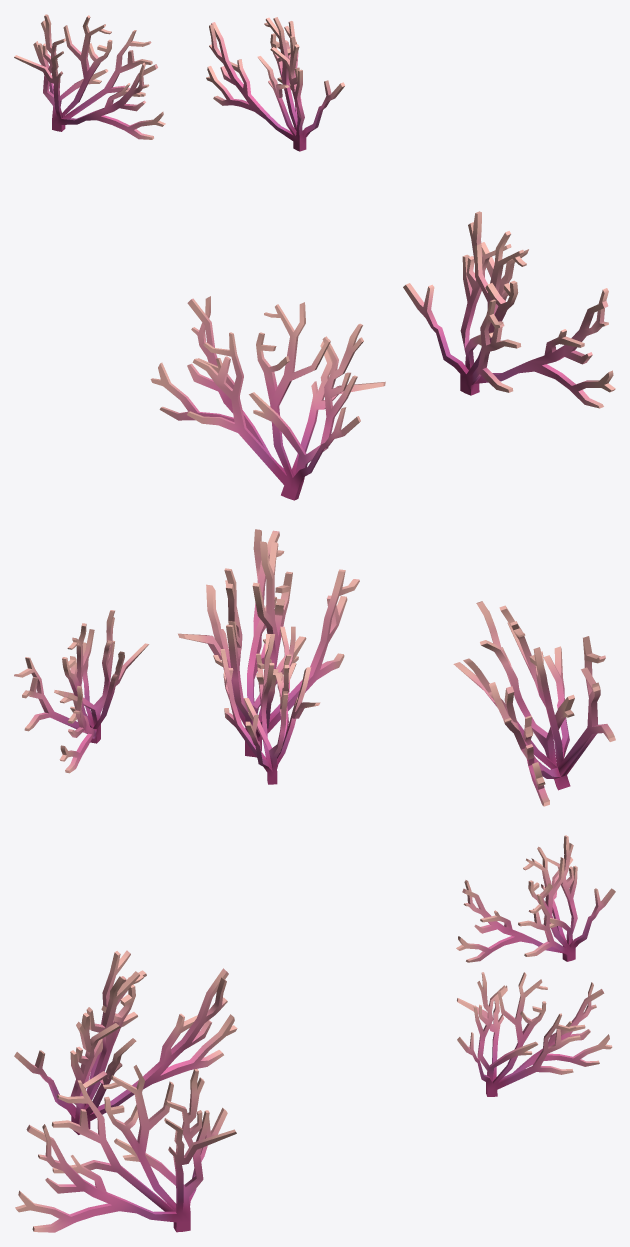
The model's file is stageObject_8.fbx.
3 renders of one model, top to bottom at view 1: azimuth 30°, elevation 25°; view 2: azimuth 150°, elevation 25°; view 3: azimuth 270°, elevation 25°, orthographic. The views are drawn at different scales.
Visible parts, largest first — view 1: sanog_5; view 2: sanog_5; view 3: sanog_5.
Part boxes in pixels (box(x1,y1,x2,y2)): sanog_5: box(14, 14, 615, 500); sanog_5: box(14, 529, 615, 806); sanog_5: box(14, 835, 615, 1232).
Bounding box in the file's own units: 272 × 211 × 384.
1 material, 1 textured.
